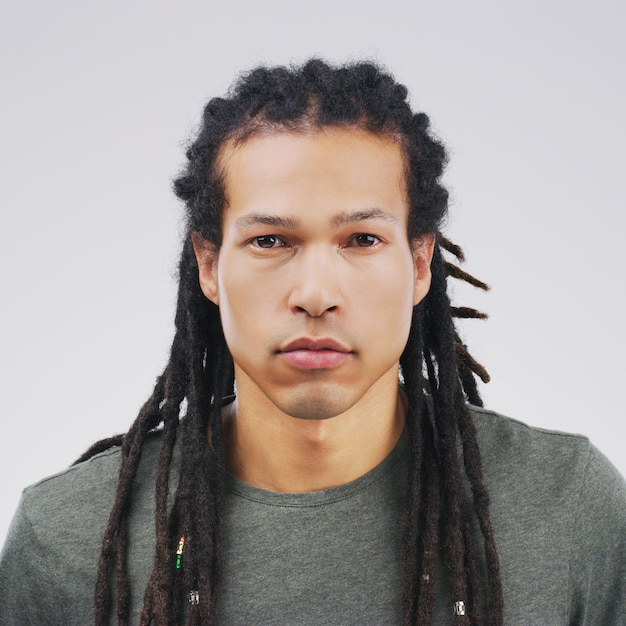teen: (192, 67, 443, 424)
